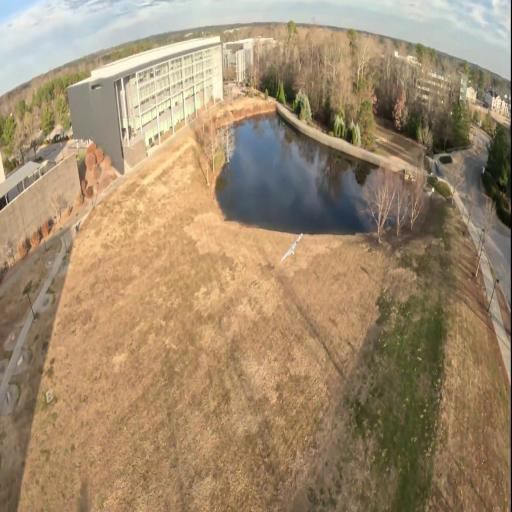uav: (281, 232, 303, 262)
